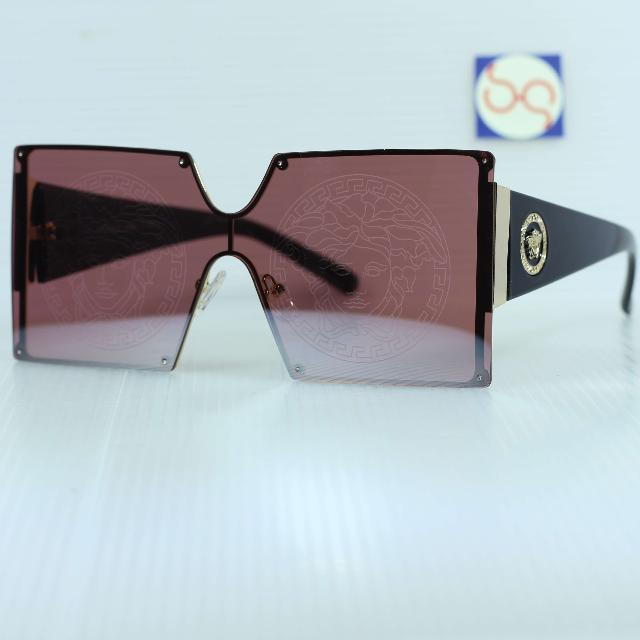Sunglasses: (6, 137, 638, 406)
